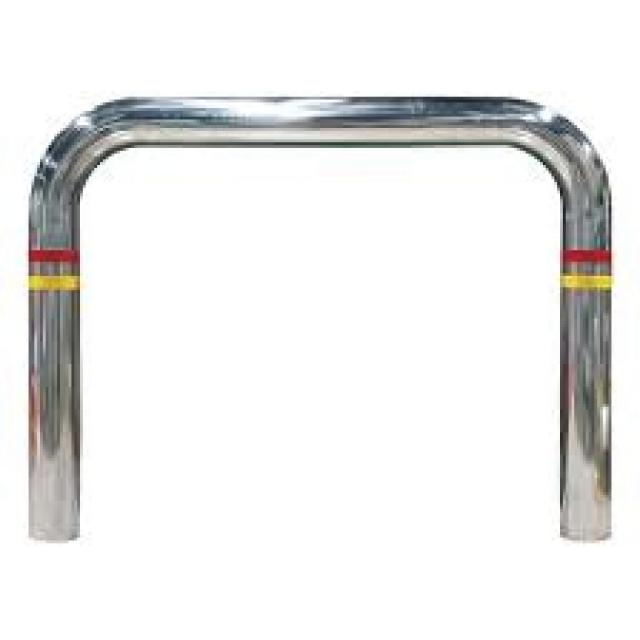bollard: (15, 89, 622, 556)
